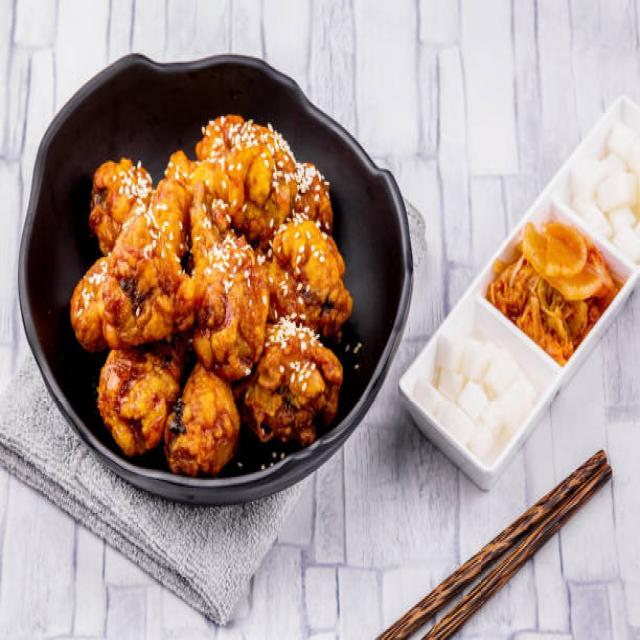Frango: (72, 112, 353, 470)
